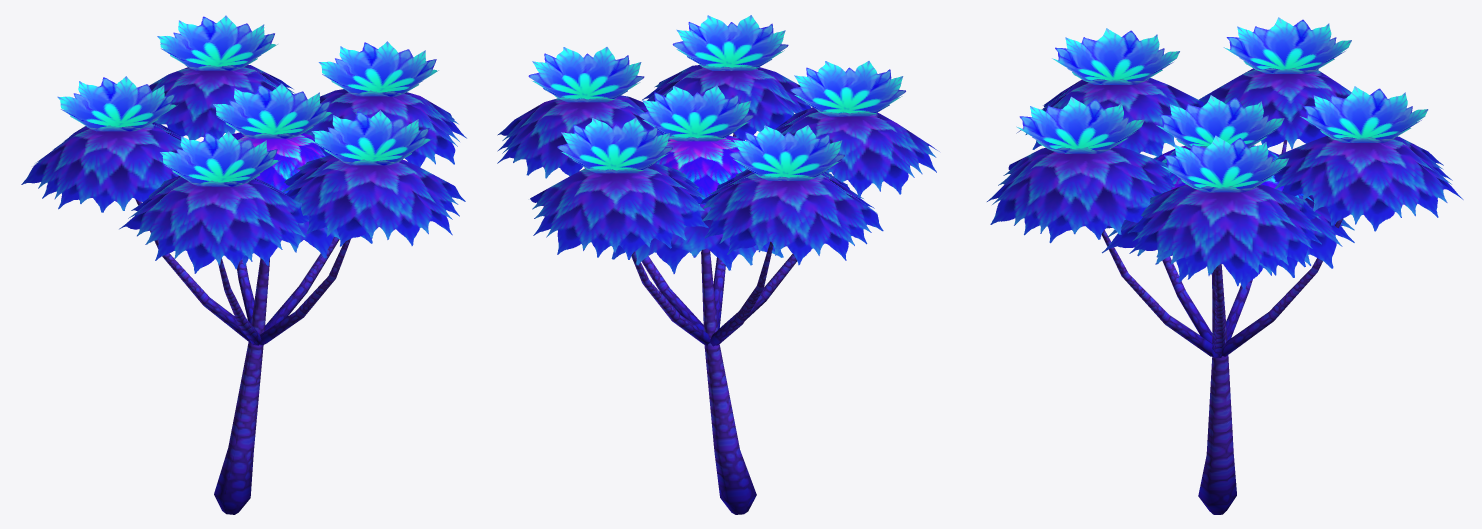
File: Blue_Tree_05c.FBX
3 views of the same model, side by side, from view 1: azimuth 30°, elevation 25°; view 2: azimuth 150°, elevation 25°; view 3: azimuth 270°, elevation 25° (orthographic). The views are drawn at different scales.
Parts seen in each view (by area): view 1: Blue_Tree_05c; view 2: Blue_Tree_05c; view 3: Blue_Tree_05c.
Boxes of the visible parts, x1=… form: Blue_Tree_05c: x1=21, y1=15, x2=466, y2=514; Blue_Tree_05c: x1=497, y1=15, x2=939, y2=514; Blue_Tree_05c: x1=987, y1=17, x2=1463, y2=514.
Bounding box in the file's own units: 381 × 375 × 386.
